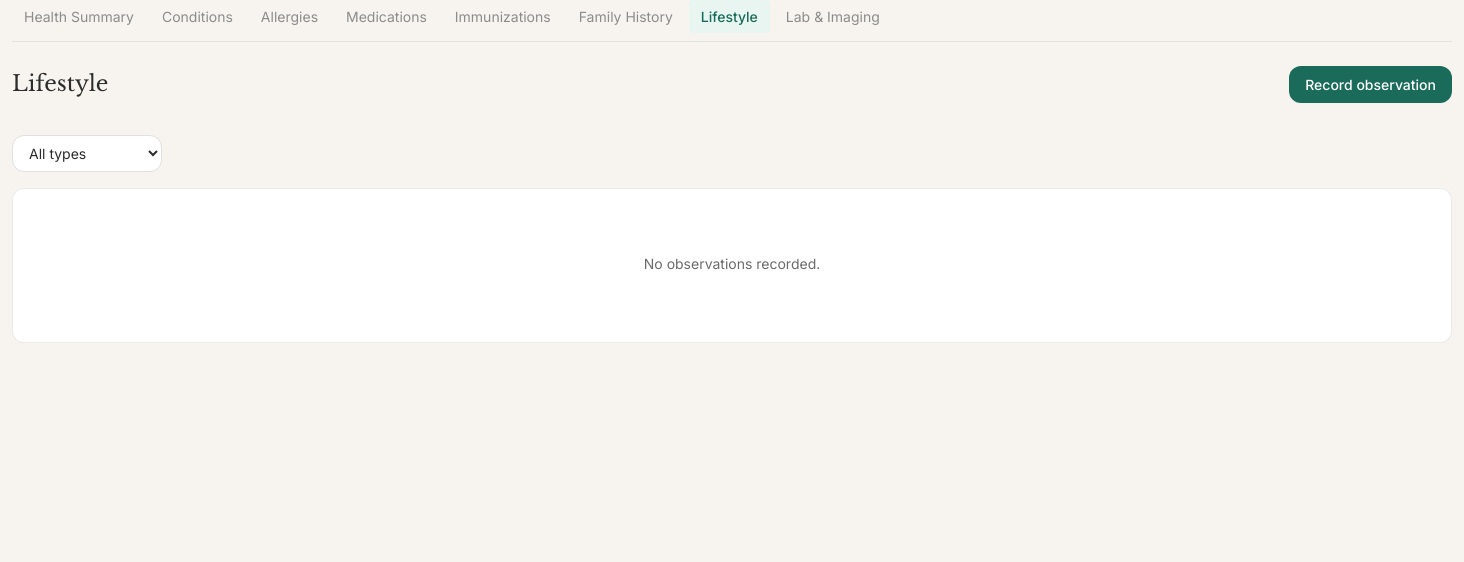
LifestylePage › shows non-chartable note for coded type
The image size is (1464, 562).
Expected: the text "No observations recorded." is shown, [644,255,820,272]
Select "Smoking Status" in the dropdown showing "All types" at (87, 154), box [12,135,162,172]
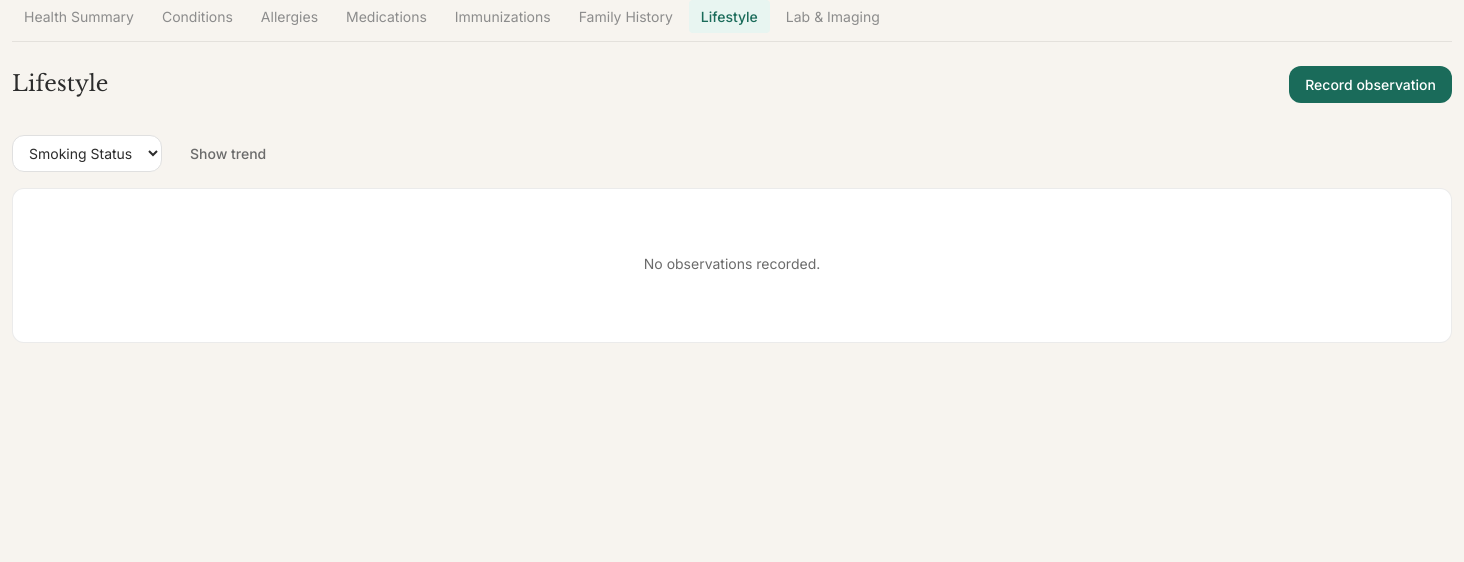
Click the button "Show trend" at (228, 154), box [174,135,282,172]
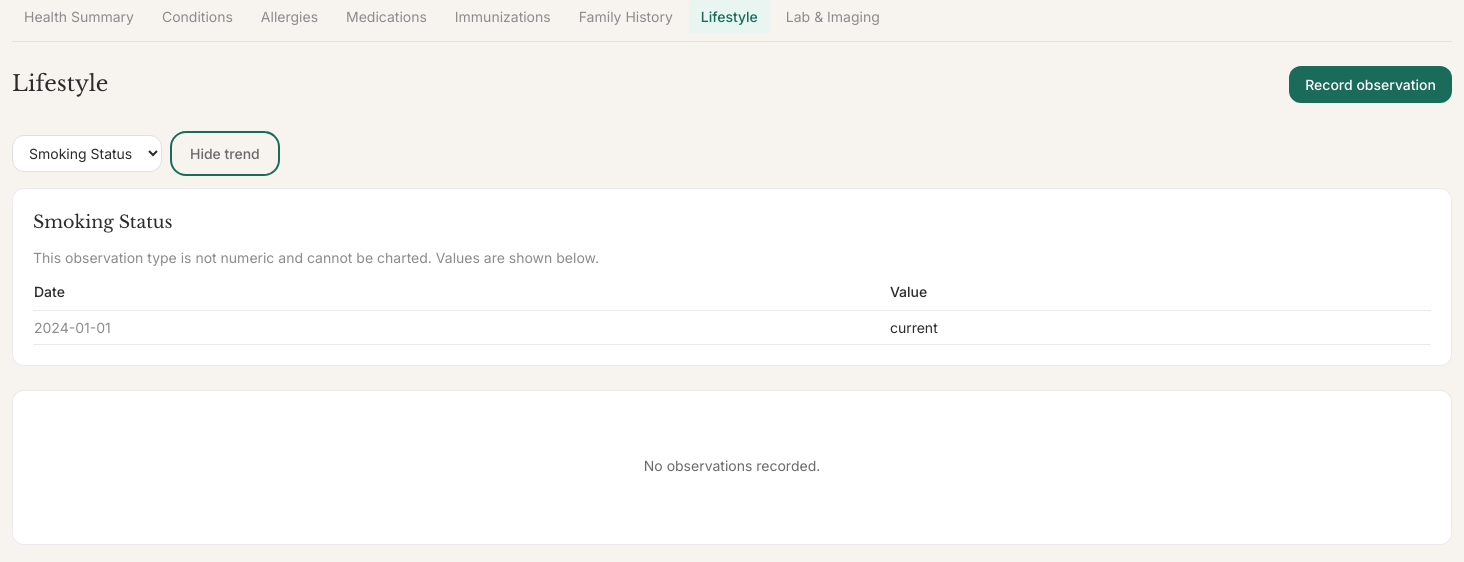
Result: the text "not numeric and cannot be charted" is shown at [33,249,599,266]
